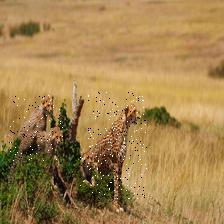Cheetha: (87, 93, 146, 201), (9, 125, 64, 161), (13, 96, 62, 130), (79, 151, 100, 188)
